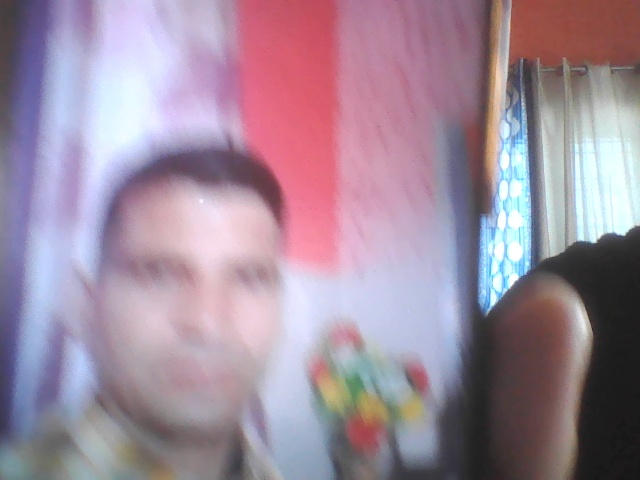fake: (79, 116, 308, 440)
